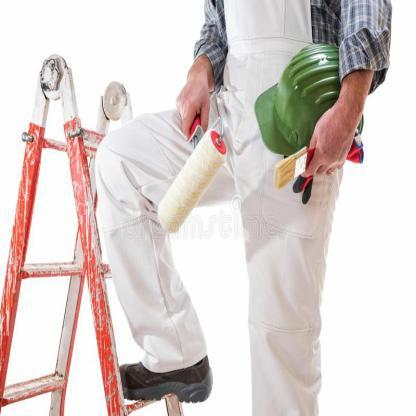bota: (115, 355, 217, 406)
